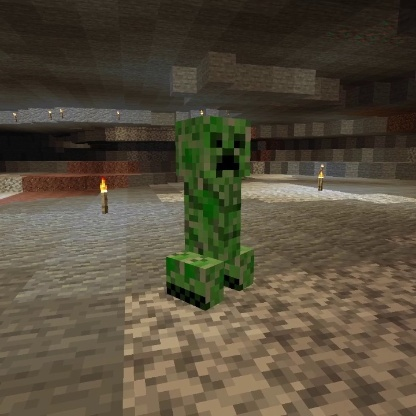creeper: (163, 113, 258, 314)
